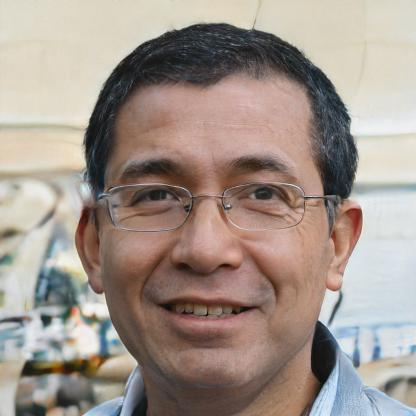glasses: (100, 179, 324, 245)
